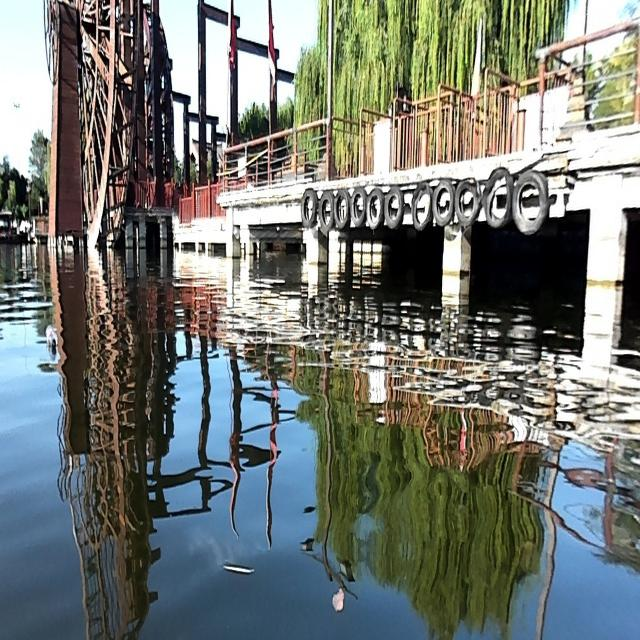bottle: (45, 320, 59, 350)
